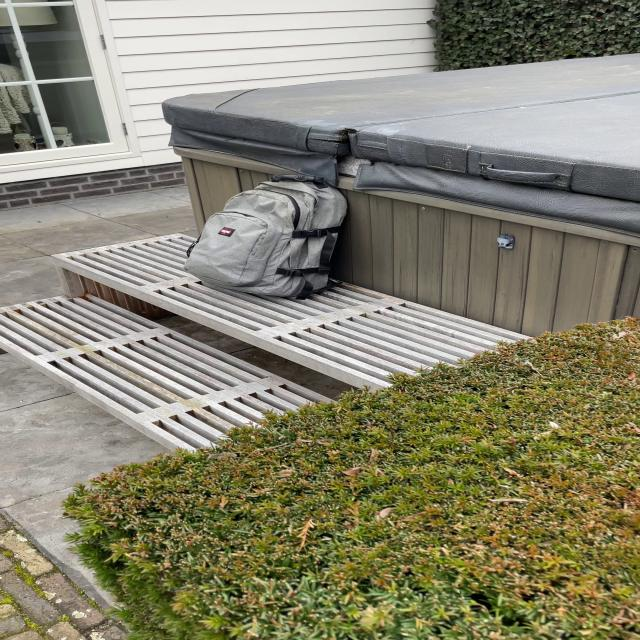backpack: (180, 171, 356, 297)
